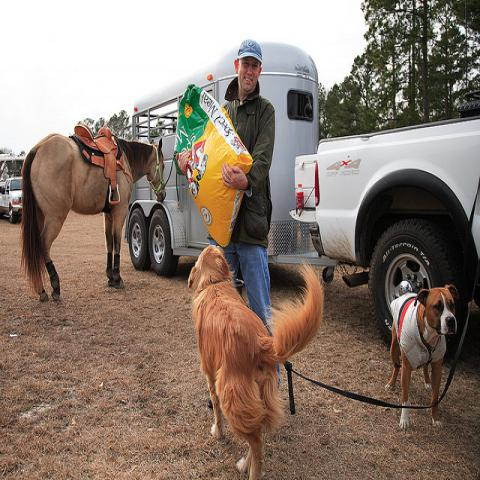truck: (124, 40, 336, 279), (289, 116, 479, 347), (0, 177, 23, 224)
